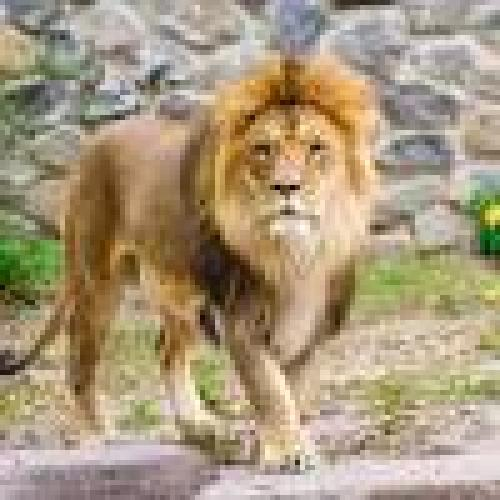lion-endangered: (0, 60, 375, 475)
